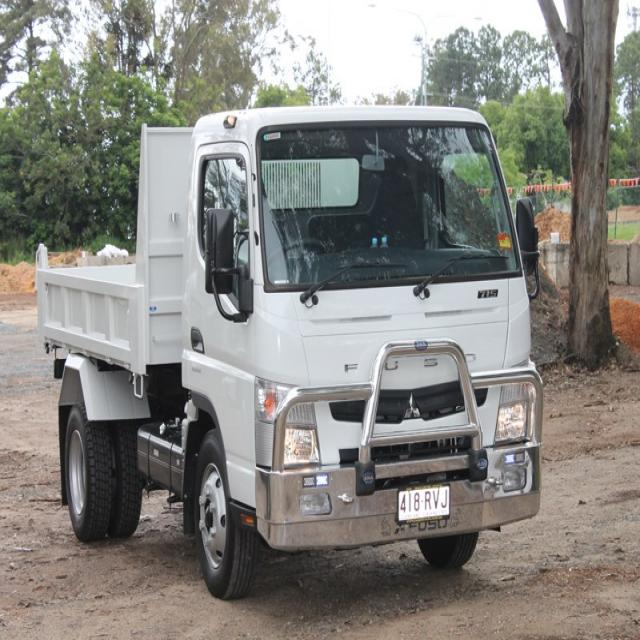truck: (34, 100, 545, 598)
